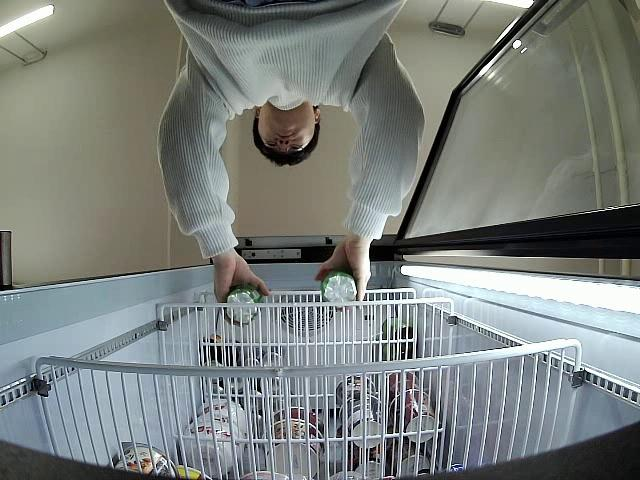00_hand: (215, 256, 271, 325), (315, 238, 373, 301)
19_17cha: (225, 287, 265, 327), (321, 270, 358, 312)
